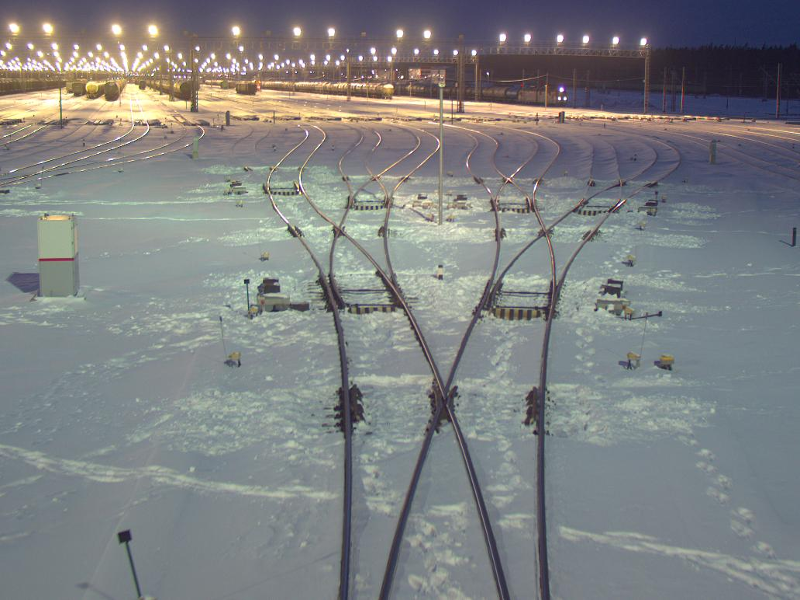left: (301, 226, 406, 306), (477, 228, 560, 309)
right: (483, 175, 539, 214), (573, 180, 635, 208), (259, 165, 306, 193), (350, 173, 391, 205)
